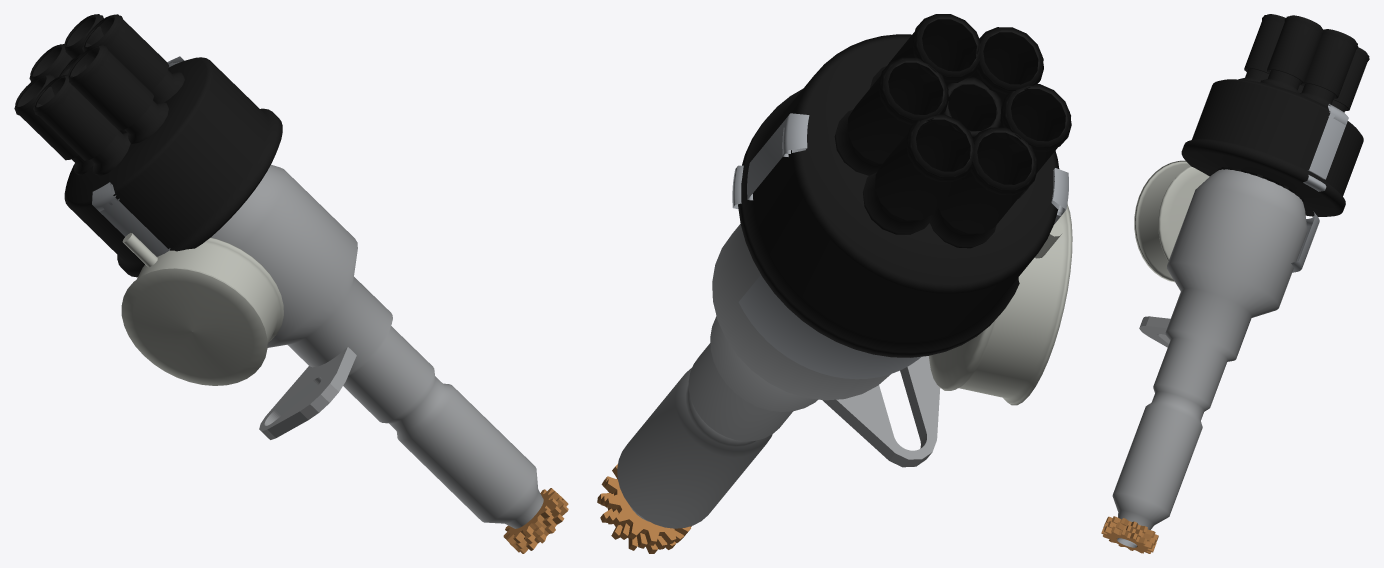
File: distributor.glb
3 renders of one model, left to right at view 1: azimuth 30°, elevation 25°; view 2: azimuth 150°, elevation 25°; view 3: azimuth 270°, elevation 25°, orthographic. The views are drawn at different scales.
Parts seen in each view (by area): view 1: distributor:blackPlastic, distributor:castAlu, distributor:zincPlate, distributor:bronze, distributor:steel; view 2: distributor:blackPlastic, distributor:castAlu, distributor:zincPlate, distributor:steel, distributor:bronze; view 3: distributor:castAlu, distributor:blackPlastic, distributor:zincPlate, distributor:steel, distributor:bronze.
Boxes of the visible parts, left/top/right/bottom form: distributor:blackPlastic: left=14, top=14, right=282, bottom=277; distributor:castAlu: left=211, top=165, right=543, bottom=528; distributor:zincPlate: left=121, top=233, right=283, bottom=385; distributor:bronze: left=503, top=488, right=568, bottom=553; distributor:steel: left=92, top=56, right=184, bottom=256; distributor:blackPlastic: left=738, top=14, right=1071, bottom=357; distributor:castAlu: left=617, top=224, right=940, bottom=528; distributor:zincPlate: left=929, top=204, right=1072, bottom=405; distributor:steel: left=732, top=113, right=1068, bottom=379; distributor:bronze: left=597, top=464, right=691, bottom=553; distributor:castAlu: left=1112, top=169, right=1307, bottom=529; distributor:blackPlastic: left=1181, top=14, right=1369, bottom=216; distributor:zincPlate: left=1134, top=160, right=1209, bottom=282; distributor:steel: left=1117, top=104, right=1348, bottom=547; distributor:bronze: left=1101, top=516, right=1158, bottom=553.
Size of the model in its own units: 170 by 201 by 117.
